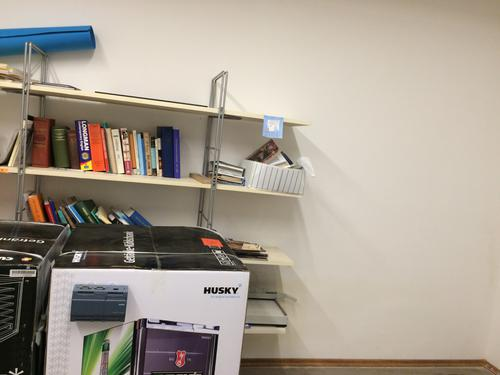iot2000: (69, 283, 129, 322)
